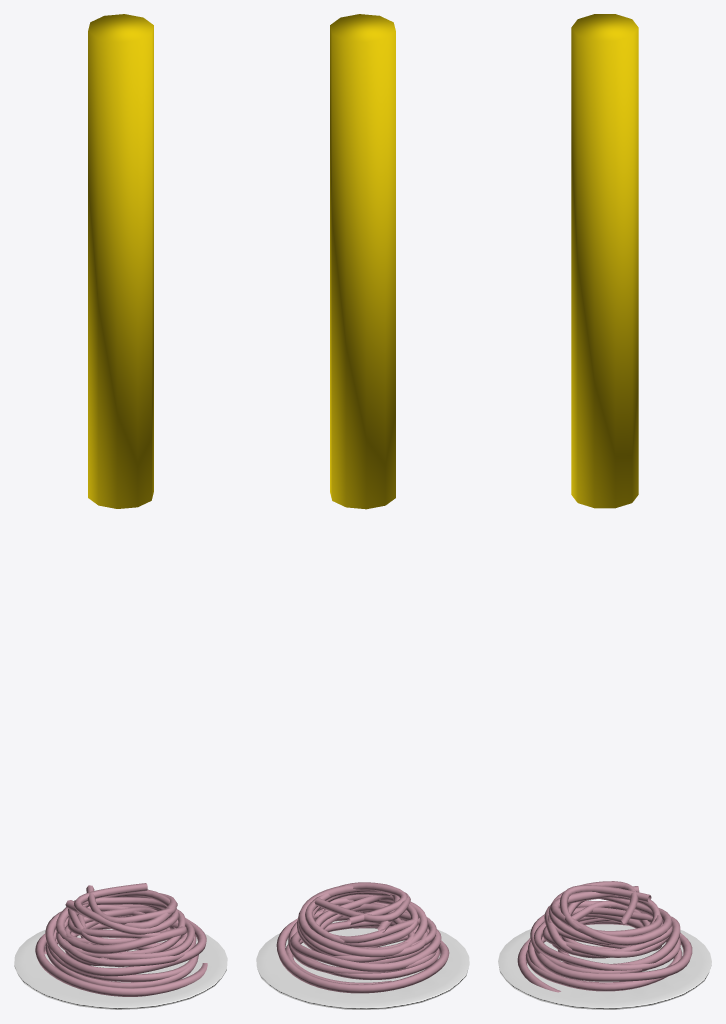
The model's file is grip_target.gltf.
The picture shows the model from 3 angles, left to right: view 1: azimuth 30°, elevation 25°; view 2: azimuth 150°, elevation 25°; view 3: azimuth 270°, elevation 25°; orthographic projection.
Visible parts, largest first — view 1: Cylinder.004, grip_target, BezierCurve.001, Cylinder.002, BezierCurve.002; view 2: Cylinder.004, grip_target, Cylinder.002, BezierCurve.002, BezierCurve.001; view 3: Cylinder.004, Cylinder.002, grip_target, BezierCurve.002, BezierCurve.001.
Boxes of the visible parts, x1,y1,x2,y2 form: Cylinder.004: (88,14,153,508); grip_target: (35,893,207,996); BezierCurve.001: (45,883,197,987); Cylinder.002: (14,929,227,1009); BezierCurve.002: (44,885,198,982); Cylinder.004: (330,14,395,509); grip_target: (276,883,449,993); Cylinder.002: (256,920,469,1009); BezierCurve.002: (285,882,437,984); BezierCurve.001: (287,892,440,979); Cylinder.004: (571,14,638,508); Cylinder.002: (498,924,711,1009); grip_target: (517,886,692,992); BezierCurve.002: (527,885,682,991); BezierCurve.001: (525,881,671,984).
Bounding box in the file's own units: 0.6428 × 3.14 × 0.6455.
